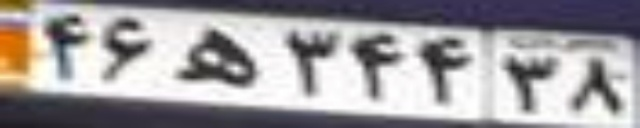3: (284, 28, 340, 97), (502, 53, 561, 113)
4: (413, 35, 476, 106), (345, 32, 402, 100), (41, 13, 87, 81)
6: (98, 17, 152, 82)
8: (565, 55, 624, 115)
he: (170, 28, 254, 86)
